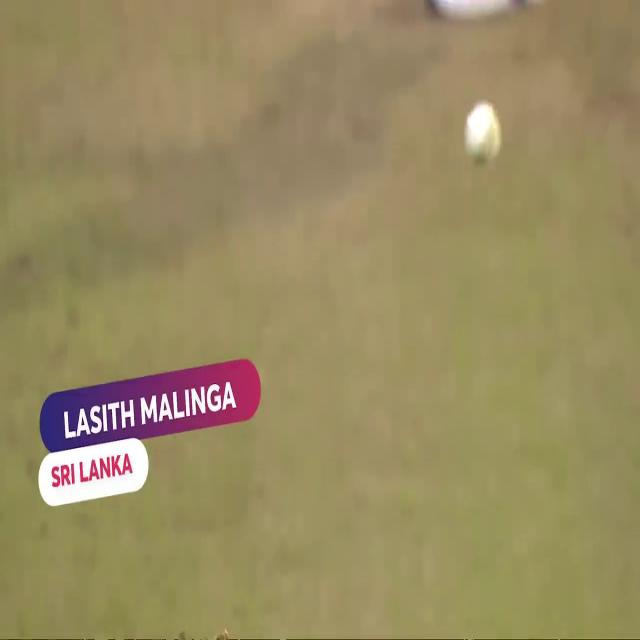ball: (464, 105, 502, 166)
